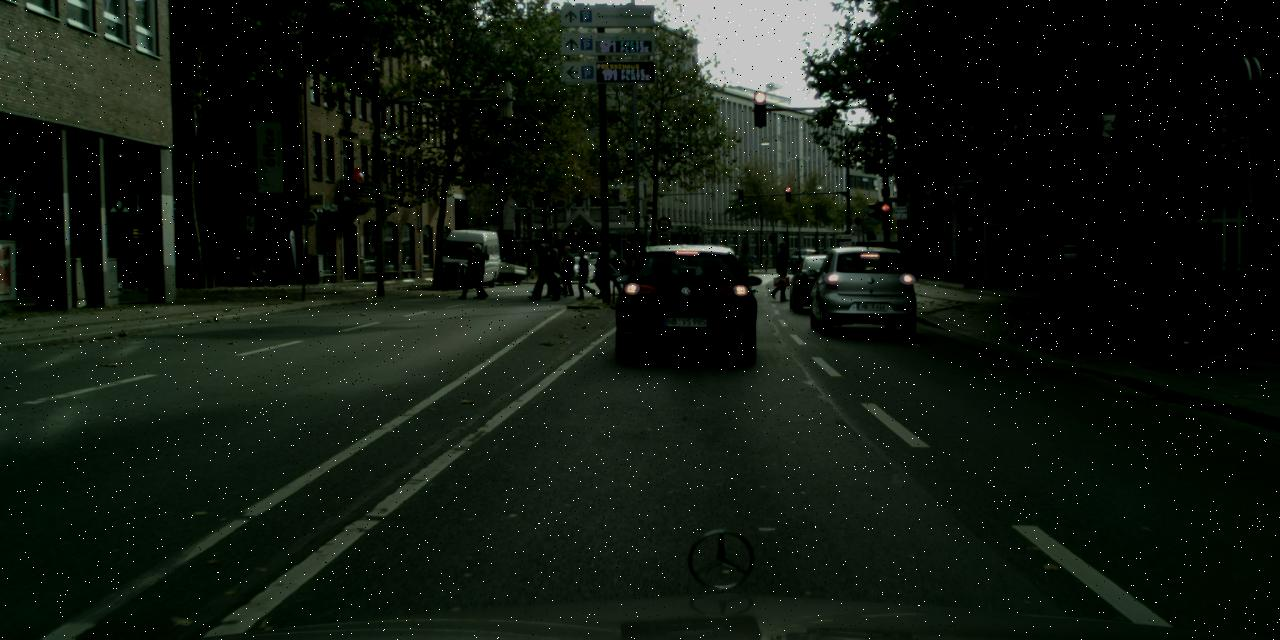ped: (769, 242, 792, 300), (532, 242, 554, 300), (590, 242, 612, 297), (467, 243, 489, 298), (617, 242, 639, 296), (600, 242, 622, 296), (732, 243, 754, 296), (534, 243, 554, 295), (460, 248, 480, 298), (558, 245, 578, 294), (544, 249, 564, 295), (574, 250, 594, 296), (908, 248, 920, 280)
